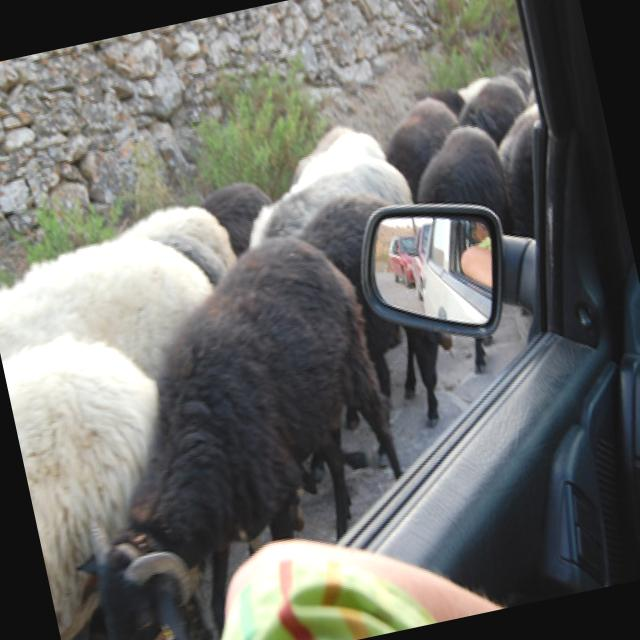Vehicle: (83, 0, 640, 631), (406, 214, 503, 330), (383, 230, 428, 288)
